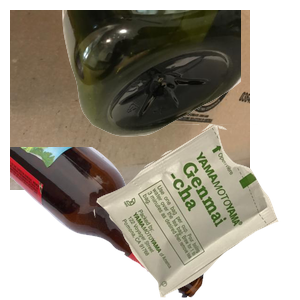cardboard: (10, 10, 250, 190)
glass: (10, 147, 207, 300)
plastic: (60, 10, 300, 139)
trash: (91, 124, 300, 300)
